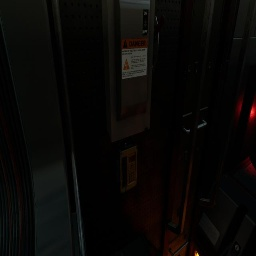EmergencyPhone ,: (116, 139, 137, 194)
SafetySwitchPanel ,: (102, 0, 164, 143)
